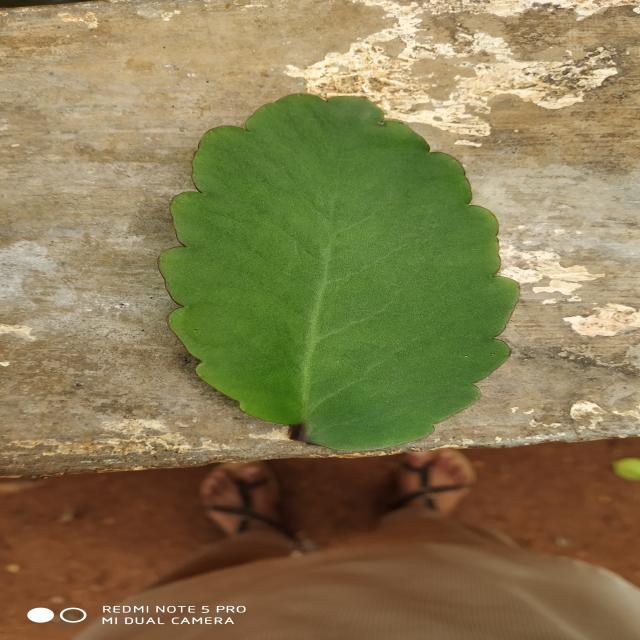spinach: (160, 94, 518, 450)
